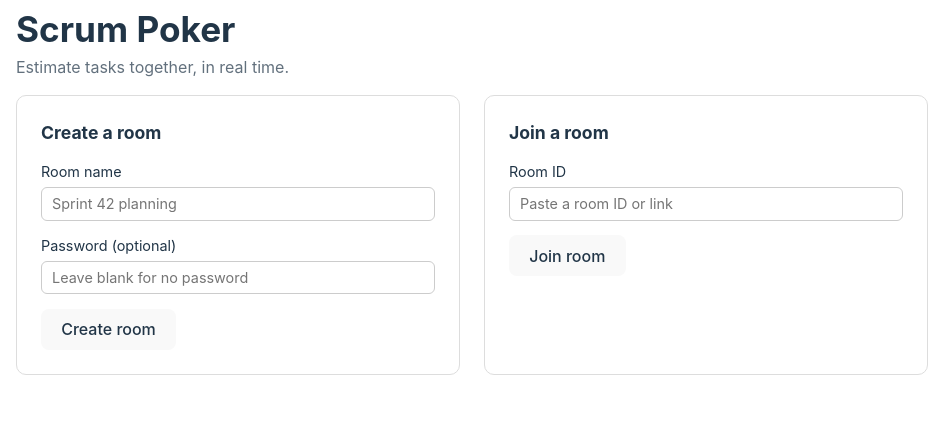
Test case: Home › shows the error message and re-enables the button on rejection
Type "Sprint 42" into the field labelled "Room name" at (238, 204), box x1=41 y1=187 x2=435 y2=221
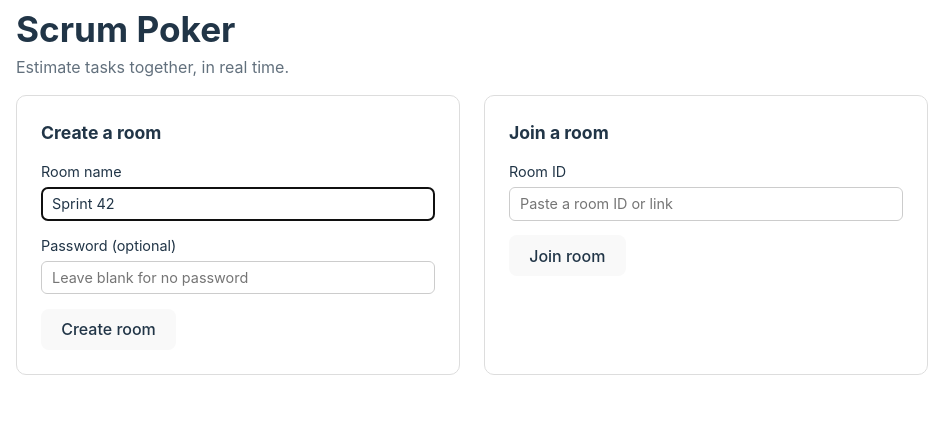
Click the button "Create room" at (108, 329), box x1=41 y1=309 x2=176 y2=350
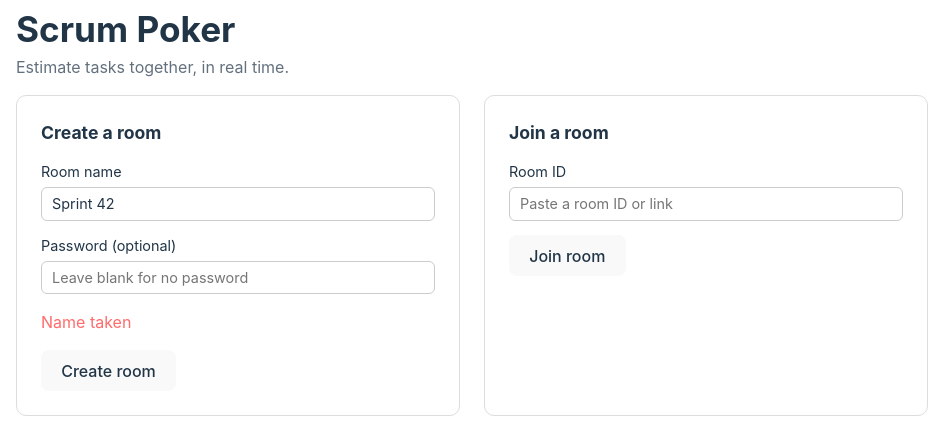
Check: the button "Create room" is enabled, box x1=41 y1=350 x2=176 y2=392
Check: the text "Name taken" is shown, box x1=41 y1=312 x2=131 y2=332
